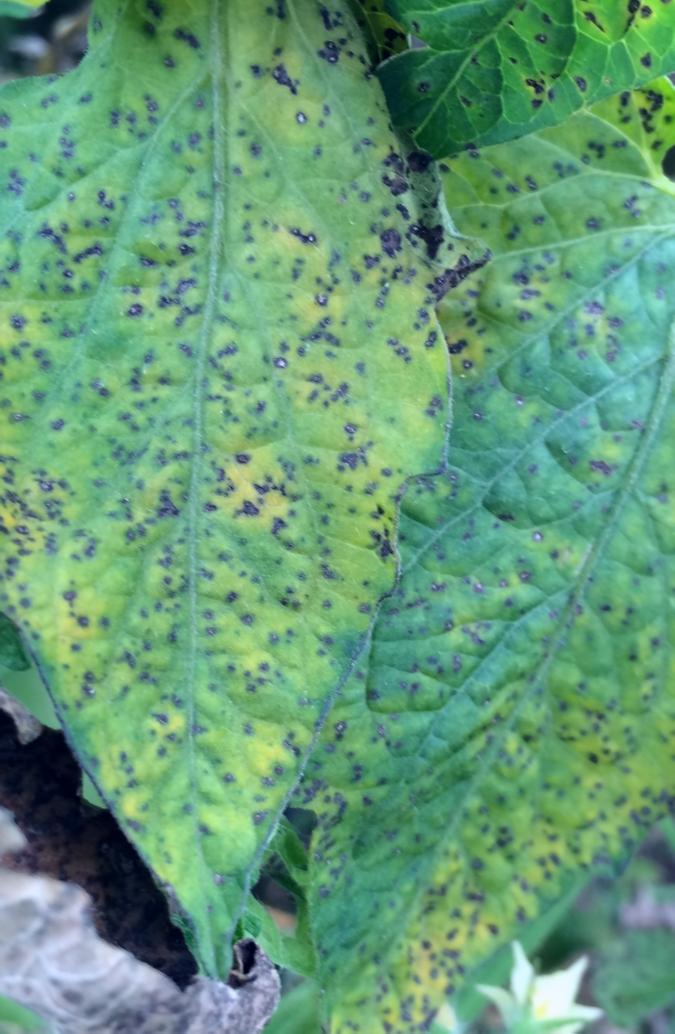Tomato Septoria leaf spot: (0, 0, 455, 1019), (272, 124, 675, 1034)
